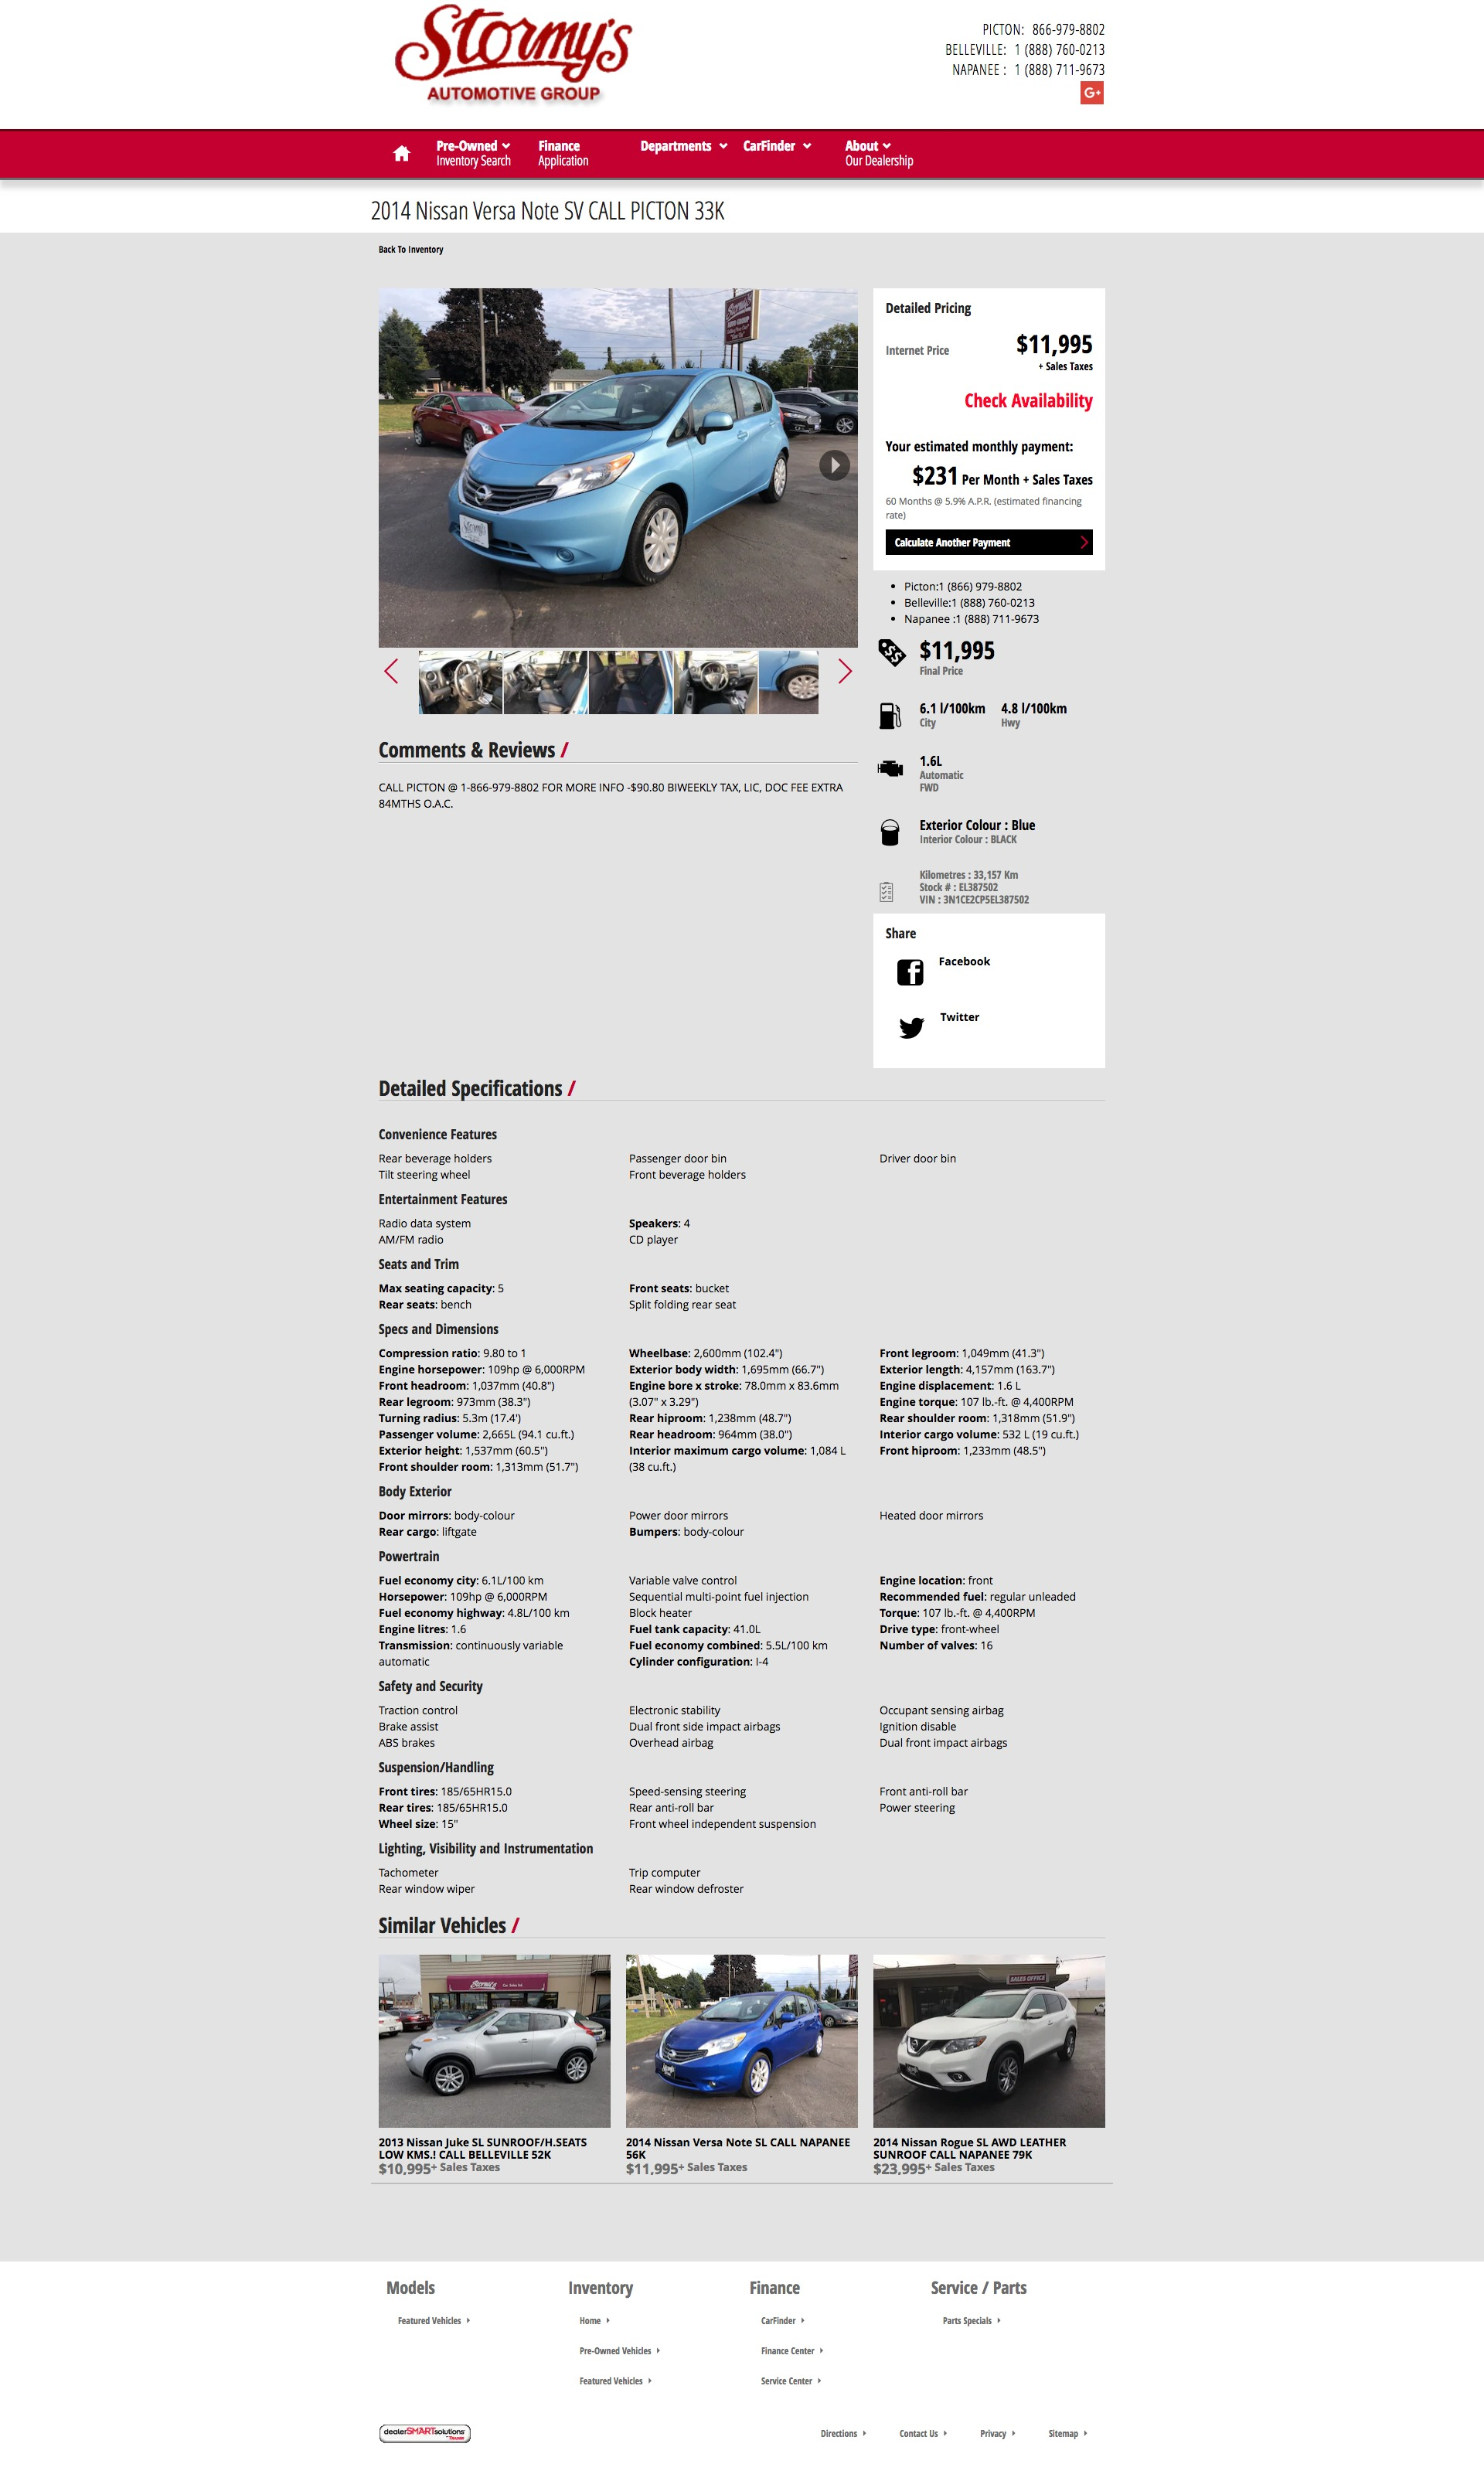car: (836, 657, 855, 685)
